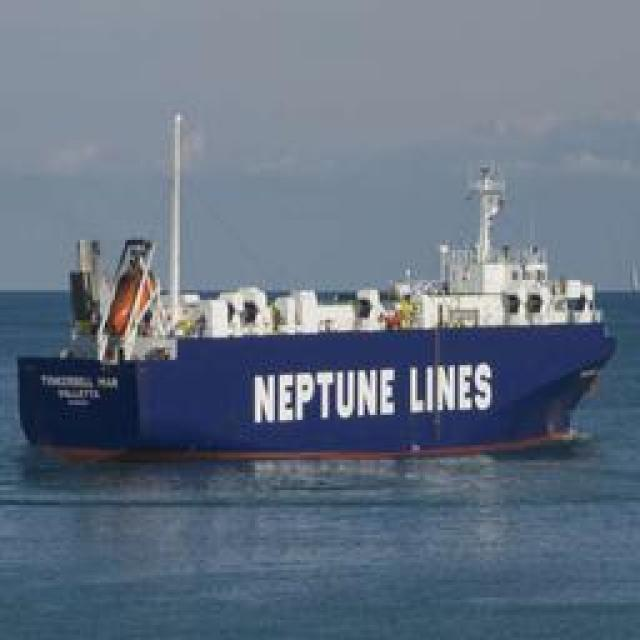CIV_Ship: (36, 126, 616, 466)
